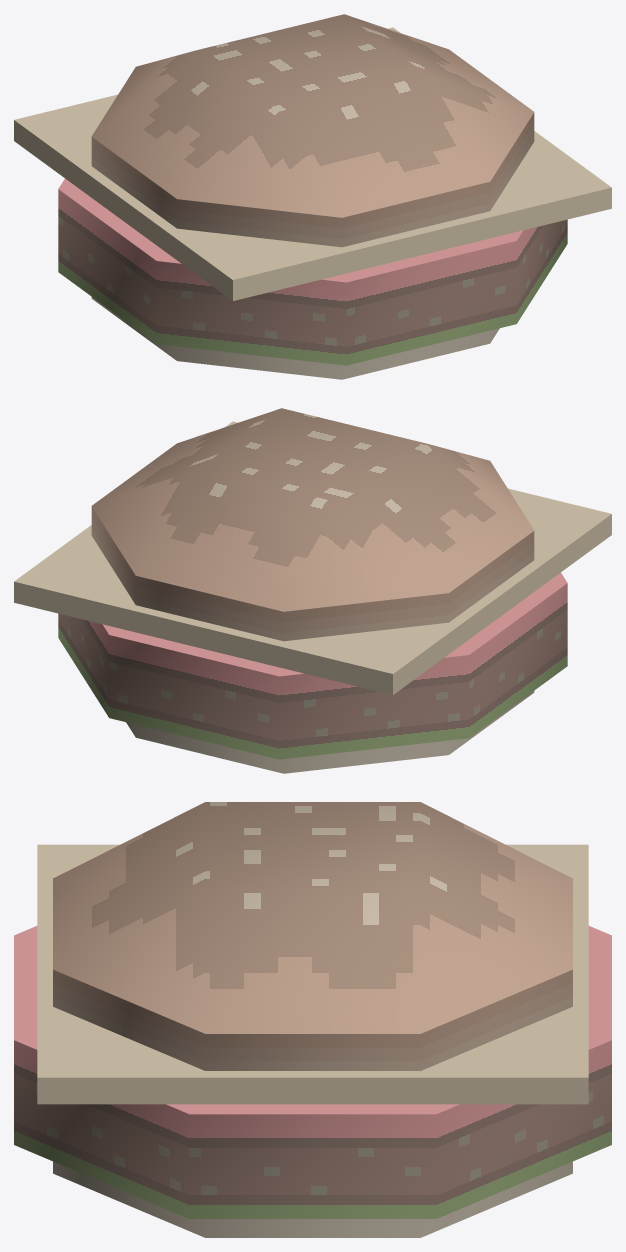
The model's file is 005c_Hamburger.glb.
3 renders of one model, top to bottom at view 1: azimuth 30°, elevation 25°; view 2: azimuth 150°, elevation 25°; view 3: azimuth 270°, elevation 25°, orthographic. The views are drawn at different scales.
Visible parts, largest first — view 1: part_0; view 2: part_0; view 3: part_0.
Part boxes in pixels (x1,y1,x2,y2): part_0: (14, 14, 611, 379); part_0: (14, 408, 611, 773); part_0: (14, 802, 611, 1237).
Bounding box in the file's own units: 0.1062 × 0.055 × 0.1062.
1 material, 1 textured.
